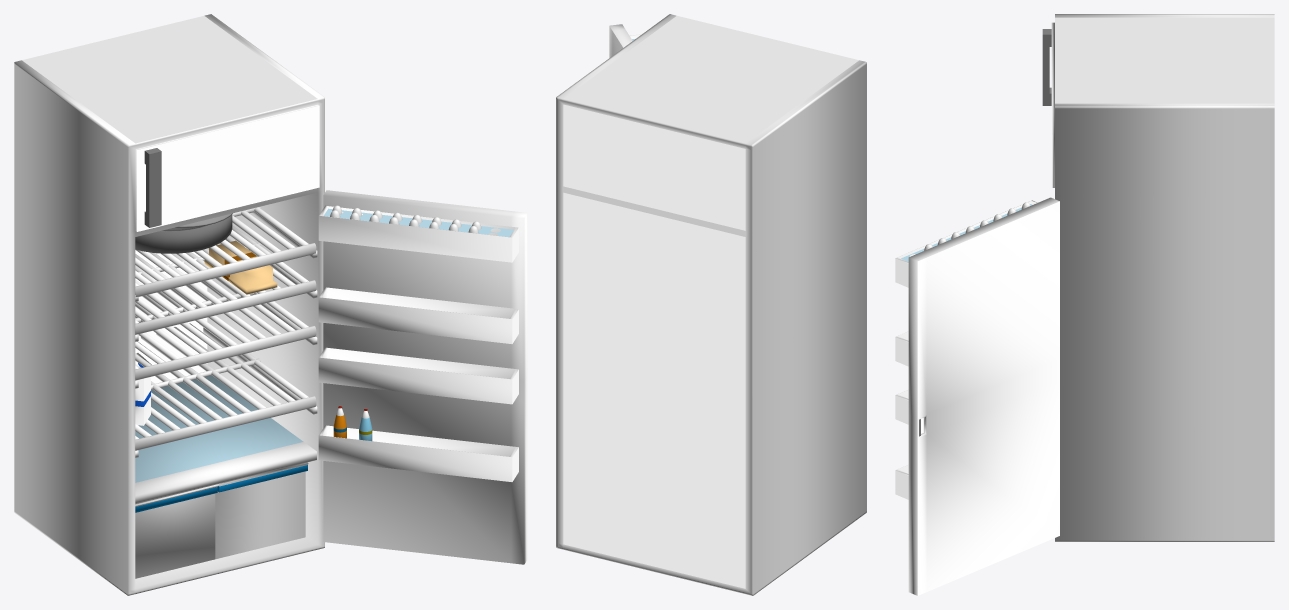
3 views of the same model, side by side, from view 1: azimuth 30°, elevation 25°; view 2: azimuth 150°, elevation 25°; view 3: azimuth 270°, elevation 25° (orthographic). The views are drawn at different scales.
Parts seen in each view (by area): view 1: Cube, Cube.door, Cube.011, Cube.012, Cube.010, Cube.013, Cylinder.066, Cylinder.015, Cylinder.047, Cylinder.031, Cylinder.063, Cube.015 (+2 smaller); view 2: Cube, Cube.door; view 3: Cube, Cube.door, Cube.013.
Boxes of the visible parts, x1,y1,x2,y2 form: Cube: (14,14,324,595); Cube.door: (323,190,527,564); Cube.011: (318,347,518,404); Cube.012: (318,287,518,343); Cube.010: (318,425,518,481); Cube.013: (318,205,518,262); Cylinder.066: (135,213,232,253); Cylinder.015: (135,396,316,450); Cylinder.047: (135,280,316,334); Cylinder.031: (135,325,316,380); Cylinder.063: (135,243,316,296); Cube.015: (204,240,277,294); Cube: (556,14,866,595); Cube.door: (609,24,632,57); Cube: (1051,14,1274,541); Cube.door: (908,197,1059,595); Cube.013: (895,200,1037,287).
Bounding box in the file's own units: 16.44 × 21.53 × 17.01.
2 materials, 1 textured.
